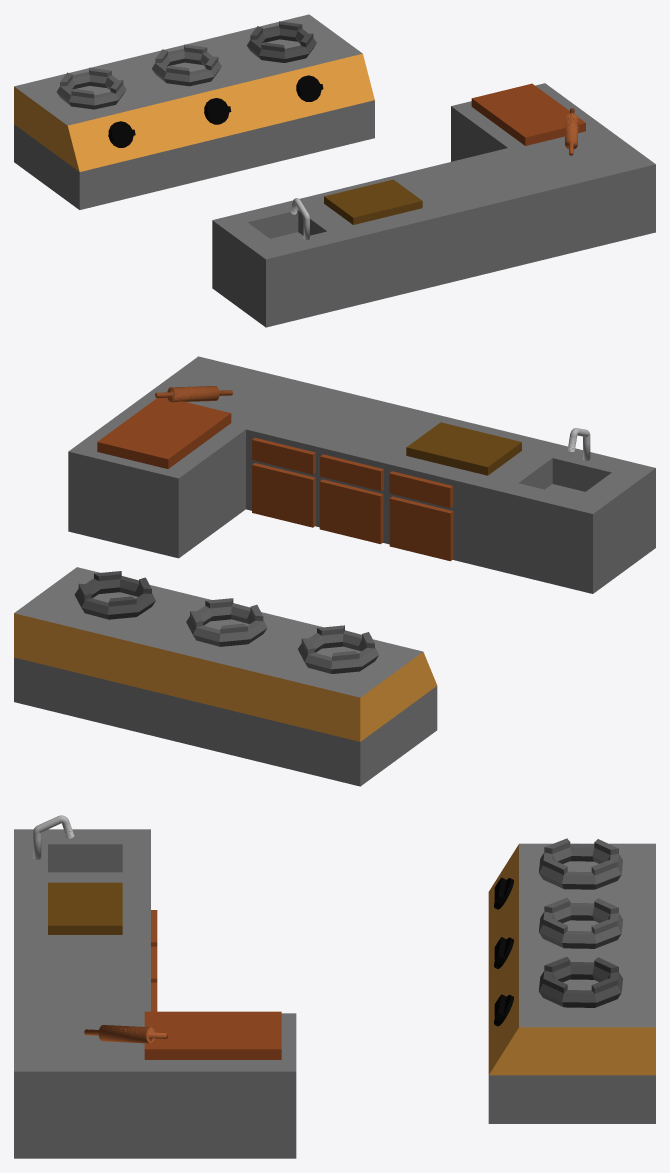
File: kitchen.fbx
The picture shows the model from 3 angles, top to bottom: view 1: azimuth 30°, elevation 25°; view 2: azimuth 150°, elevation 25°; view 3: azimuth 270°, elevation 25°; orthographic projection. The views are drawn at different scales.
Visible parts, largest first — view 1: Cylinder.002, Cylinder.001; view 2: Cylinder.002, Cylinder.001; view 3: Cylinder.002, Cylinder.001.
Boxes of the visible parts, x1=… form: Cylinder.002: x1=14, y1=14, x2=655, y2=327; Cylinder.001: x1=14, y1=19, x2=655, y2=326; Cylinder.002: x1=14, y1=356, x2=655, y2=786; Cylinder.001: x1=14, y1=357, x2=655, y2=783; Cylinder.002: x1=14, y1=815, x2=655, y2=1158; Cylinder.001: x1=14, y1=815, x2=655, y2=1158.
Size of the model in its own units: 838 by 251 by 938.
